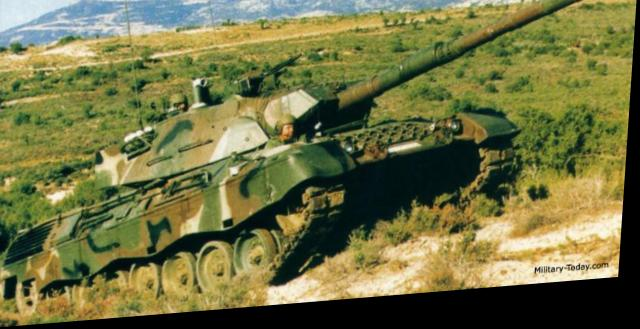tank: (14, 85, 522, 312)
